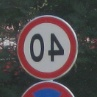Speed limit: (13, 13, 82, 80)
